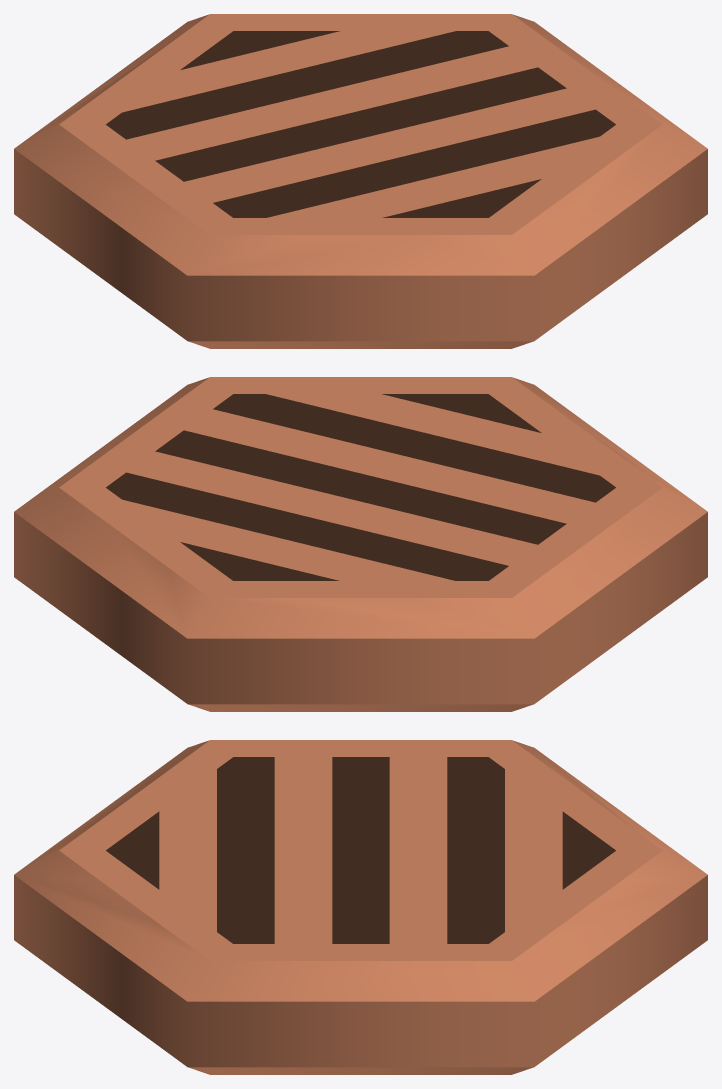
Rendered from meat-patty.glb.
3 views of the same model, one above another, from view 1: azimuth 30°, elevation 25°; view 2: azimuth 150°, elevation 25°; view 3: azimuth 270°, elevation 25° (orthographic).
Visible parts, largest first — view 1: meatPatty; view 2: meatPatty; view 3: meatPatty.
Part boxes in pixels (x1=…): meatPatty: x1=14, y1=14, x2=707, y2=348; meatPatty: x1=14, y1=377, x2=707, y2=711; meatPatty: x1=14, y1=740, x2=707, y2=1074.
Size of the model in its own units: 0.2988 by 0.0624 by 0.345.
